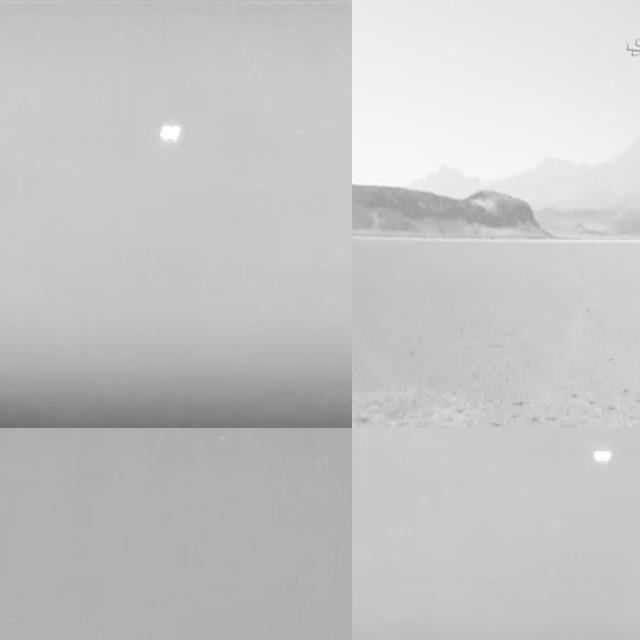1: (582, 444, 620, 476), (151, 122, 187, 154)
drone: (622, 37, 640, 78)
